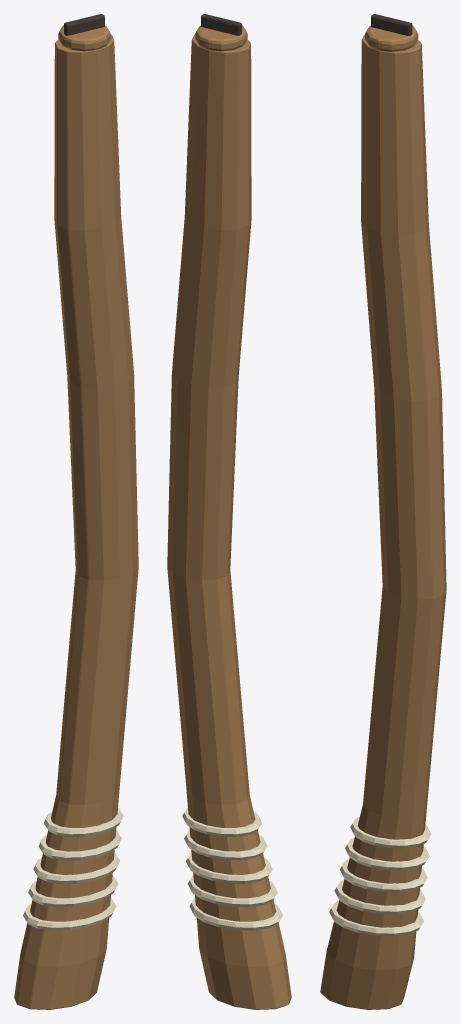
Rendered from axe_handle_sound.glb.
3 views of the same model, side by side, from view 1: azimuth 30°, elevation 25°; view 2: azimuth 150°, elevation 25°; view 3: azimuth 330°, elevation 25° (orthographic).
Parts seen in each view (by area): view 1: Continuous ash wood haft, Grip cord, Visible end grain, Grip cord.001, Grip cord.002, Grip cord.003, Grip cord.004, Head fastening wedge; view 2: Continuous ash wood haft, Grip cord, Visible end grain, Grip cord.001, Grip cord.002, Grip cord.003, Grip cord.004, Head fastening wedge; view 3: Continuous ash wood haft, Grip cord, Visible end grain, Grip cord.001, Grip cord.002, Grip cord.003, Grip cord.004, Head fastening wedge.
Boxes of the visible parts, bbox=[...] form: Continuous ash wood haft: bbox=[14, 34, 138, 1009]; Grip cord: bbox=[23, 898, 116, 930]; Visible end grain: bbox=[58, 25, 110, 51]; Grip cord.001: bbox=[28, 875, 118, 907]; Grip cord.002: bbox=[33, 852, 119, 883]; Grip cord.003: bbox=[38, 830, 121, 860]; Grip cord.004: bbox=[44, 807, 123, 836]; Head fastening wedge: bbox=[64, 14, 104, 35]; Continuous ash wood haft: bbox=[167, 34, 291, 1009]; Grip cord: bbox=[189, 898, 282, 930]; Visible end grain: bbox=[195, 25, 247, 51]; Grip cord.001: bbox=[187, 875, 277, 907]; Grip cord.002: bbox=[186, 852, 272, 883]; Grip cord.003: bbox=[184, 830, 267, 860]; Grip cord.004: bbox=[182, 807, 261, 836]; Head fastening wedge: bbox=[201, 14, 241, 35]; Continuous ash wood haft: bbox=[320, 35, 446, 1009]; Grip cord: bbox=[329, 901, 423, 936]; Visible end grain: bbox=[365, 25, 418, 51]; Grip cord.001: bbox=[334, 880, 425, 914]; Grip cord.002: bbox=[339, 859, 427, 892]; Grip cord.003: bbox=[345, 838, 429, 870]; Grip cord.004: bbox=[350, 817, 431, 848]; Head fastening wedge: bbox=[371, 14, 412, 36].
Bounding box in the file's own units: 0.0737 × 0.573 × 0.0391.
